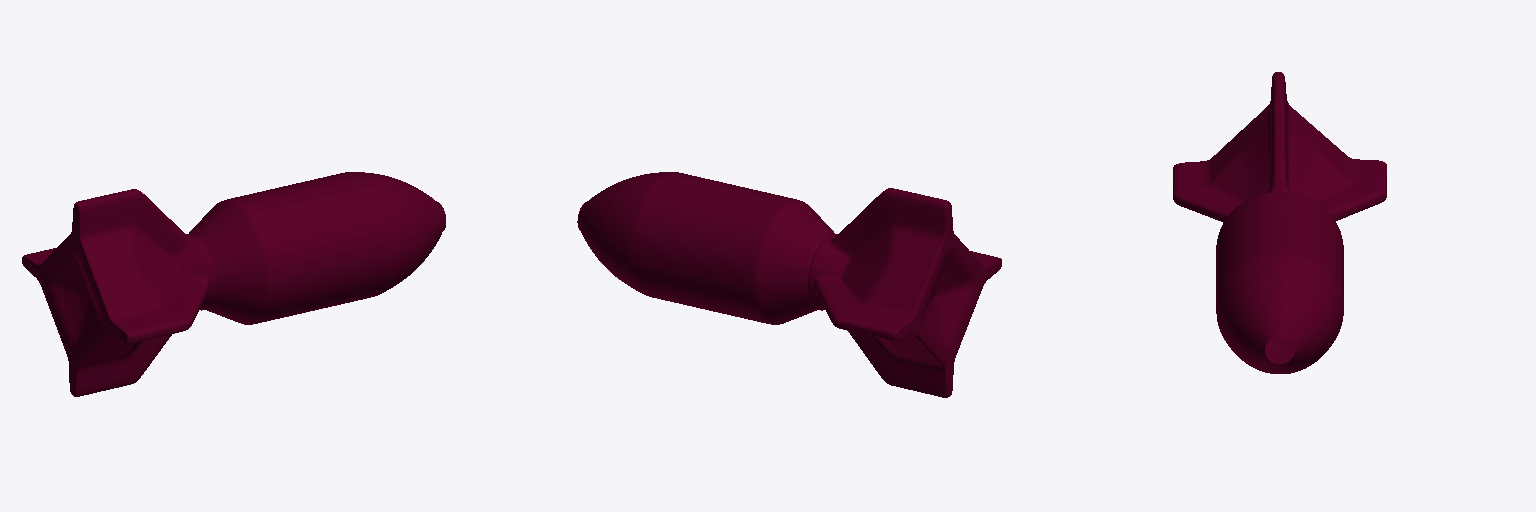
The model's file is bomb.obj.
The picture shows the model from 3 angles: view 1: azimuth 30°, elevation 25°; view 2: azimuth 150°, elevation 25°; view 3: azimuth 270°, elevation 25°; orthographic projection.
Visible parts, largest first — view 1: 15332_Bookend_10k_Bomb_v1_NEW; view 2: 15332_Bookend_10k_Bomb_v1_NEW; view 3: 15332_Bookend_10k_Bomb_v1_NEW.
Boxes of the visible parts, box(x1,y1,x2,y2) form: 15332_Bookend_10k_Bomb_v1_NEW: box(22, 172, 445, 396); 15332_Bookend_10k_Bomb_v1_NEW: box(577, 172, 1001, 397); 15332_Bookend_10k_Bomb_v1_NEW: box(1173, 72, 1386, 373).
Size of the model in its own units: 1.36 by 0.6915 by 0.6901.